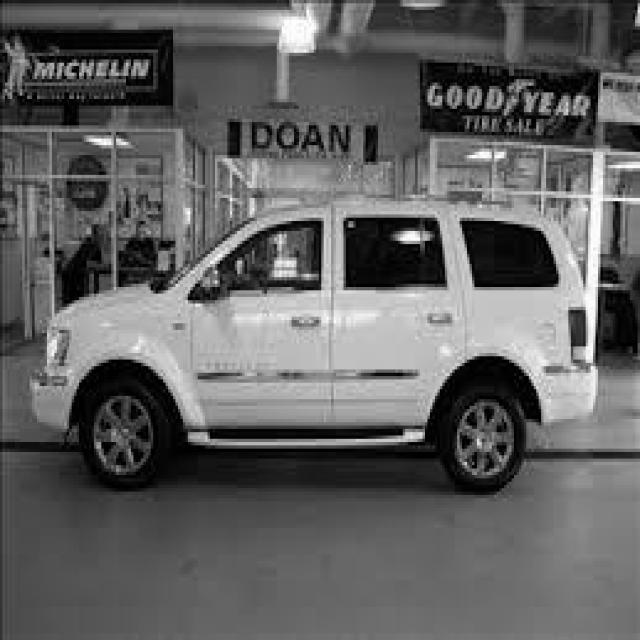car: (27, 192, 598, 492)
